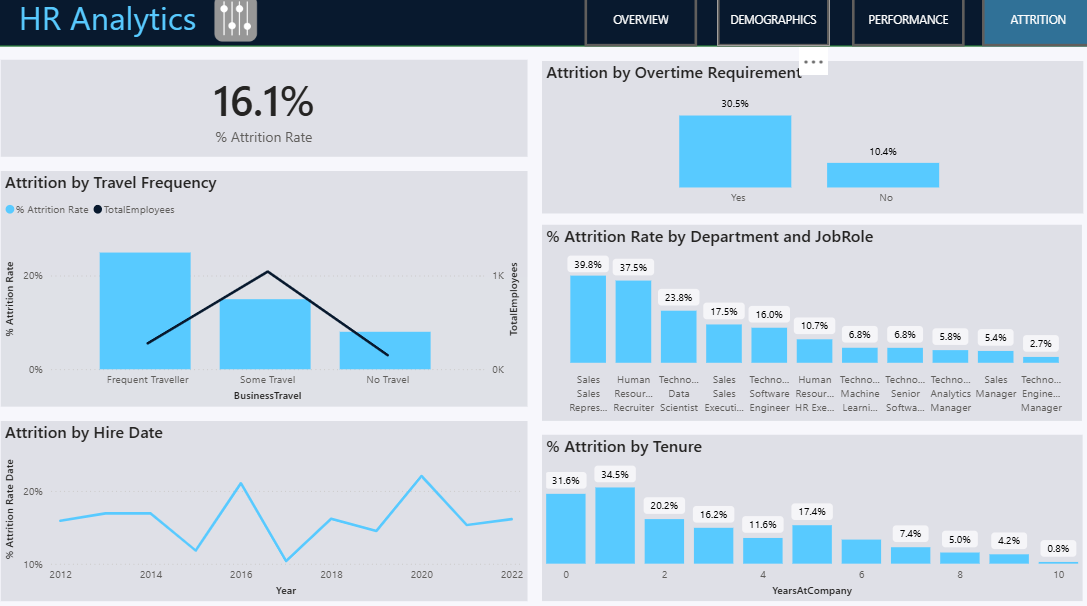

Layout of this report page (visuals, bound fields, positions):
{"tool":"powerbi","page":{"name":"Attrition","canvas":[1280,720],"ordinal":3},"visuals":[{"type":"card","fields":{"Values":["_Measures.% Attrition Rate"]},"box":[16,80,608,112],"z":0},{"type":"image","title":"slicer_showbox","box":[203.4,0,167.4,63.5],"z":1000,"group":"g1"},{"type":"lineStackedColumnComboChart","fields":{"Category":["DimEmployee.Department","DimEmployee.JobRole"],"Y":["_Measures.% Attrition Rate"]},"box":[640.6,269.8,623.3,226.5],"z":1000},{"type":"lineChart","title":"Attrition by Hire Date","fields":{"Y":["_Measures.% Attrition Rate Date"],"Category":["DimDate.Date.Variation.Date Hierarchy.Year","DimDate.Date.Variation.Date Hierarchy.Quarter","DimDate.Date.Variation.Date Hierarchy.Month","DimDate.Date.Variation.Date Hierarchy.Day"]},"box":[16,496,608,208],"z":2000},{"type":"lineStackedColumnComboChart","title":"Attrition by Travel Frequency","fields":{"Y":["_Measures.% Attrition Rate"],"Category":["DimEmployee.BusinessTravel"],"Y2":["_Measures.TotalEmployees"]},"box":[15.6,207.3,607.6,272.1],"z":3000},{"type":"columnChart","title":"Attrition by Overtime Requirement","fields":{"Category":["DimEmployee.OverTime"],"Y":["_Measures.% Attrition Rate"]},"box":[640,80.3,624.4,176.2],"z":4000},{"type":"lineStackedColumnComboChart","title":"% Attrition by Tenure","fields":{"Category":["DimEmployee.YearsAtCompany"],"Y":["_Measures.% Attrition Rate"]},"box":[640,512,624,192],"z":5000},{"type":"shape","box":[0,0,1280,64],"z":6000},{"type":"textbox","box":[32,0,624,64],"z":7000},{"type":"actionButton","box":[1148.4,0,130,64],"z":8000},{"type":"actionButton","box":[689.6,0,130,64],"z":9000},{"type":"actionButton","box":[842.6,0,130,64],"z":10000},{"type":"actionButton","box":[998.4,0,130,64],"z":11000},{"type":"group","id":"g1","title":"slicer_1","box":[0,0,1279.3,706.7],"z":12000}]}

Visuals, with their boxes on the page's 1280x720 design canvas (x1, y1, x2, y2). These are canvas units, not pixel positions in the 1087x606 screenshot, which may show the page scaled, cropped or inside an application window:
card - _Measures.% Attrition Rate: [left=16, top=80, right=624, bottom=192]
"slicer_showbox" image: [left=203, top=0, right=371, bottom=64]
lineStackedColumnComboChart - DimEmployee.Department x DimEmployee.JobRole: [left=641, top=270, right=1264, bottom=496]
"Attrition by Hire Date" lineChart: [left=16, top=496, right=624, bottom=704]
"Attrition by Travel Frequency" lineStackedColumnComboChart: [left=16, top=207, right=623, bottom=479]
"Attrition by Overtime Requirement" columnChart: [left=640, top=80, right=1264, bottom=256]
"% Attrition by Tenure" lineStackedColumnComboChart: [left=640, top=512, right=1264, bottom=704]
shape: [left=0, top=0, right=1280, bottom=64]
textbox: [left=32, top=0, right=656, bottom=64]
actionButton: [left=1148, top=0, right=1278, bottom=64]
actionButton: [left=690, top=0, right=820, bottom=64]
actionButton: [left=843, top=0, right=973, bottom=64]
actionButton: [left=998, top=0, right=1128, bottom=64]
"slicer_1" group: [left=0, top=0, right=1279, bottom=707]
